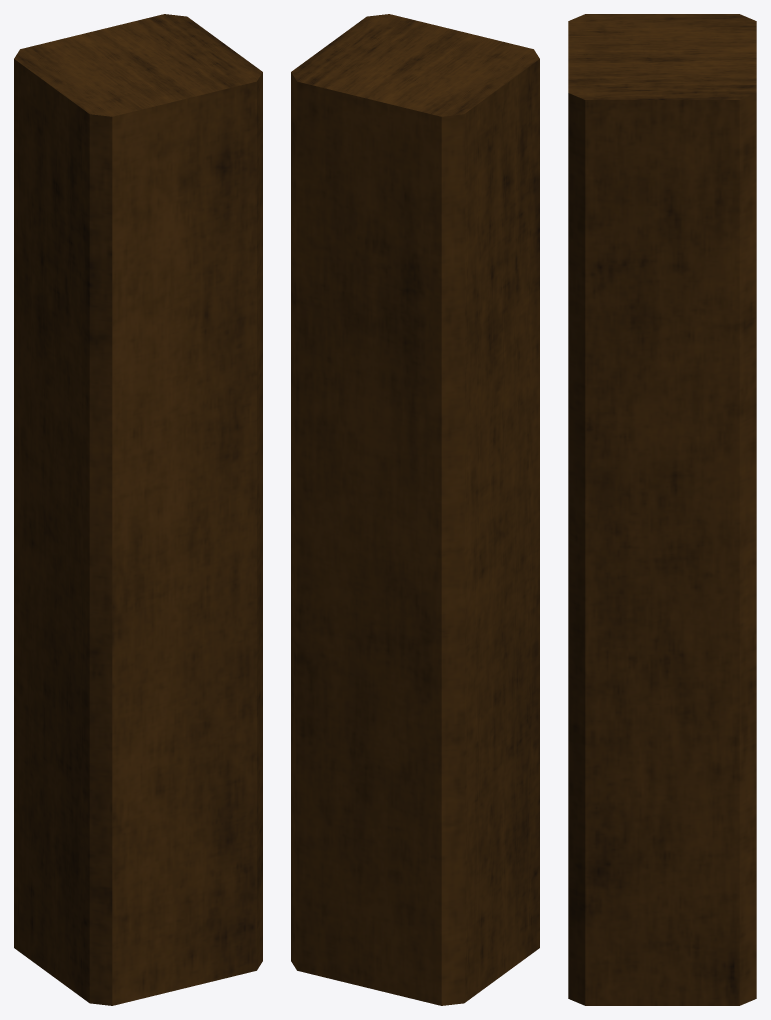
File: bigpillar.fbx
The picture shows the model from 3 angles, left to right: view 1: azimuth 30°, elevation 25°; view 2: azimuth 150°, elevation 25°; view 3: azimuth 270°, elevation 25°; orthographic projection.
Visible parts, largest first — view 1: bigpillar; view 2: bigpillar; view 3: bigpillar.
Boxes of the visible parts, left/top/right/bottom form: bigpillar: left=14, top=14, right=262, bottom=1005; bigpillar: left=291, top=14, right=539, bottom=1005; bigpillar: left=568, top=14, right=756, bottom=1005.
Size of the model in its own units: 55.34 by 271 by 51.08.
